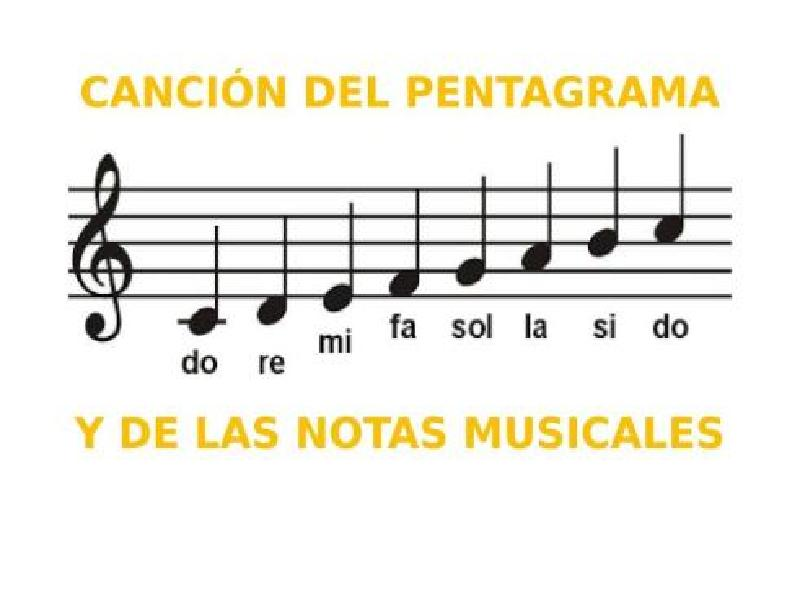CS: (72, 153, 132, 344)
N: (652, 130, 693, 252), (455, 177, 496, 294), (521, 161, 560, 277), (186, 225, 226, 335), (588, 144, 626, 259), (388, 192, 426, 303), (322, 205, 360, 315), (256, 217, 290, 334)
